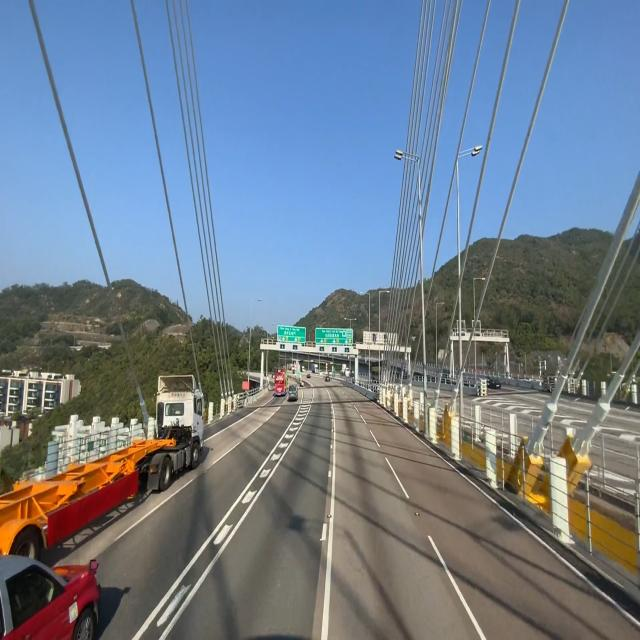Car: (0, 366, 207, 564)
